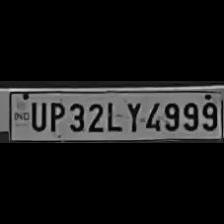2: (86, 100, 104, 132)
3: (65, 100, 84, 132)
4: (142, 98, 162, 132)
9: (198, 98, 218, 132), (160, 99, 180, 131), (180, 98, 198, 132)
L: (103, 98, 121, 132)
P: (46, 98, 64, 132)
U: (27, 99, 45, 131)
Y: (122, 98, 142, 132)
